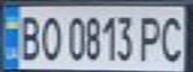0: (63, 12, 84, 62)
1: (100, 12, 118, 62)
3: (115, 11, 139, 62)
8: (81, 12, 103, 62)
B: (15, 11, 42, 62)
C: (157, 11, 187, 63)
O: (36, 11, 63, 62)
P: (136, 11, 166, 62)
